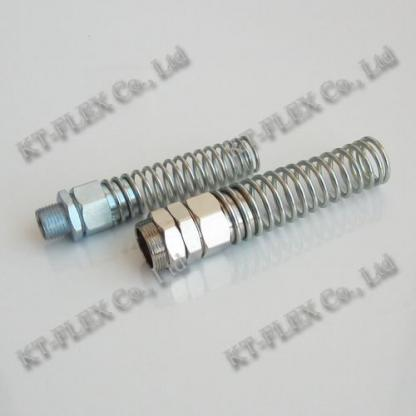FOD: (208, 136, 394, 252), (100, 133, 262, 230)
